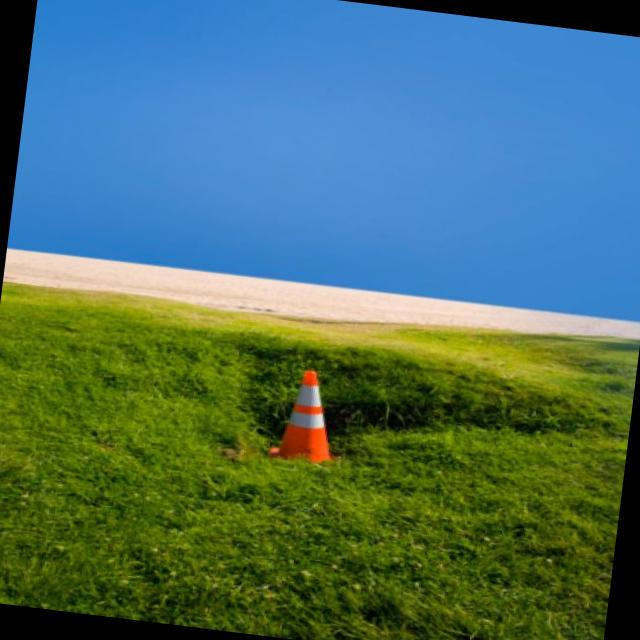Cone: (240, 350, 365, 483)
